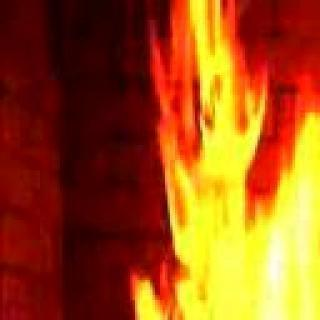fire: (153, 43, 320, 320)
